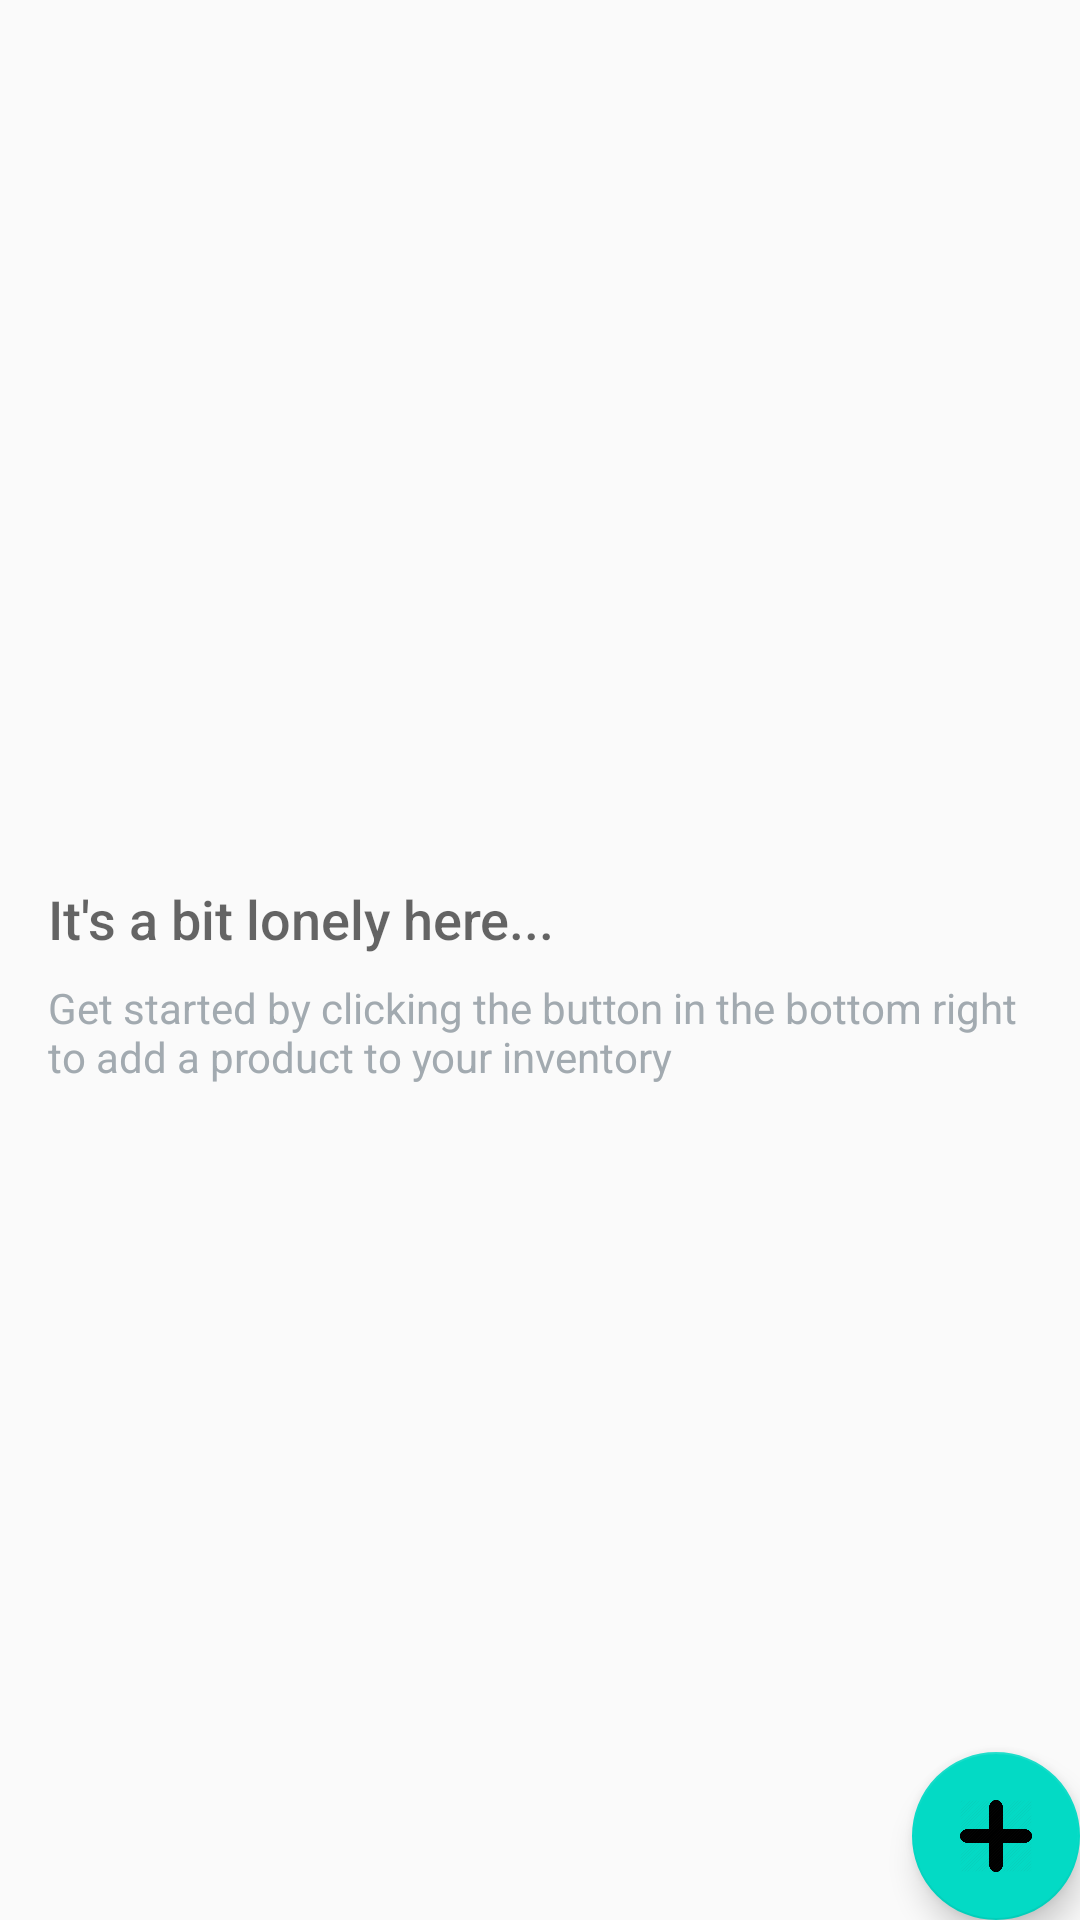

Icon bounding boxes for this 1080w x 1920h phone screenshot, format {"left": x1, "top": y1, "right": x2, "bottom": y2}:
plus sign: {"left": 912, "top": 1752, "right": 1080, "bottom": 1920}
